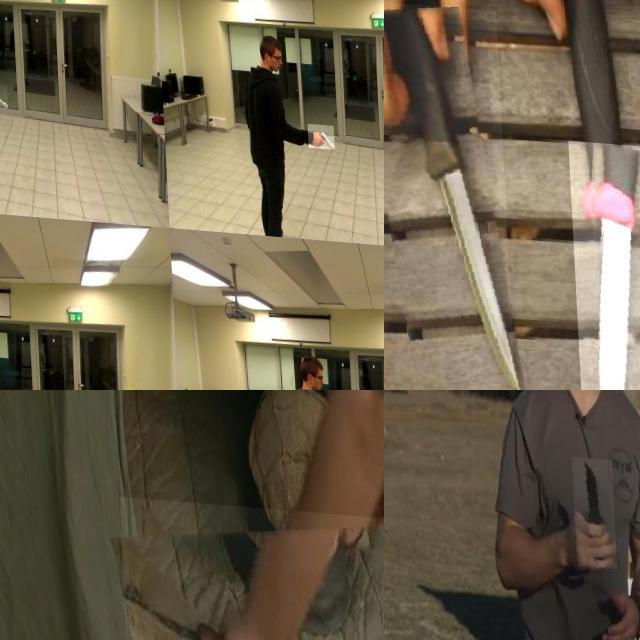-: (384, 0, 511, 390), (565, 135, 640, 390), (569, 452, 613, 562)
gun-knife-thesis - v11 Yolov5 augmented: (116, 493, 384, 640), (306, 115, 332, 142), (0, 81, 12, 106)
